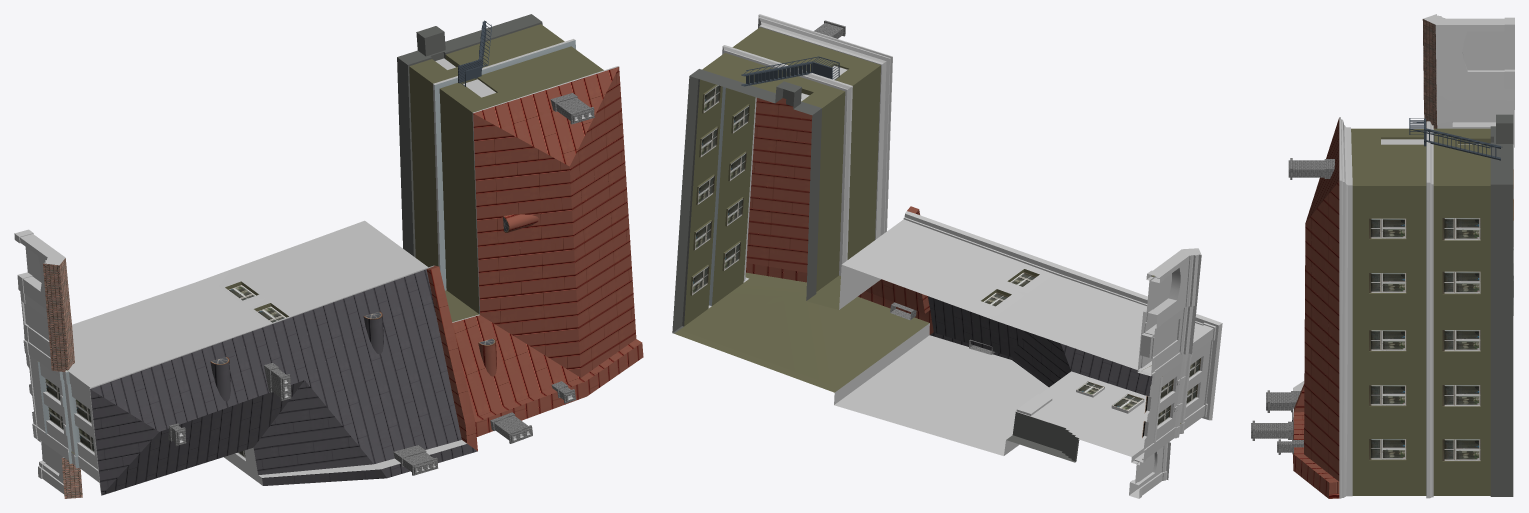
The model's file is Aia_13.obj.
The picture shows the model from 3 angles, left to right: view 1: azimuth 30°, elevation 25°; view 2: azimuth 150°, elevation 25°; view 3: azimuth 270°, elevation 25°; orthographic projection. The views are drawn at different scales.
Visible parts, largest first — view 1: Aia13; view 2: Aia13; view 3: Aia13.
Boxes of the visible parts, left/top/right/bottom form: Aia13: left=14, top=14, right=643, bottom=498; Aia13: left=672, top=14, right=1222, bottom=498; Aia13: left=1251, top=14, right=1514, bottom=498.
Bounding box in the file's own units: 35.98 × 22.17 × 14.16.
